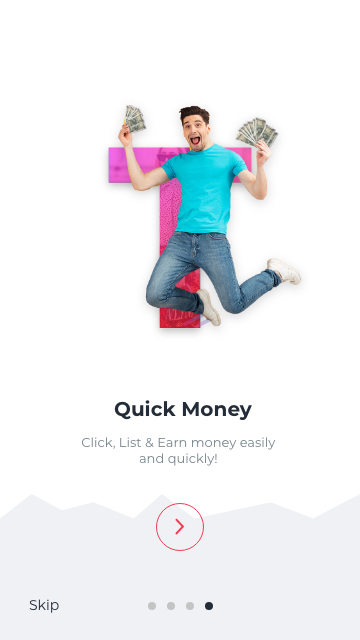Icon: (156, 503, 205, 552)
Image: (109, 105, 302, 329)
PageIndicator: (148, 602, 214, 611)
Text: (83, 437, 276, 467), (115, 400, 253, 421), (30, 598, 60, 613)
